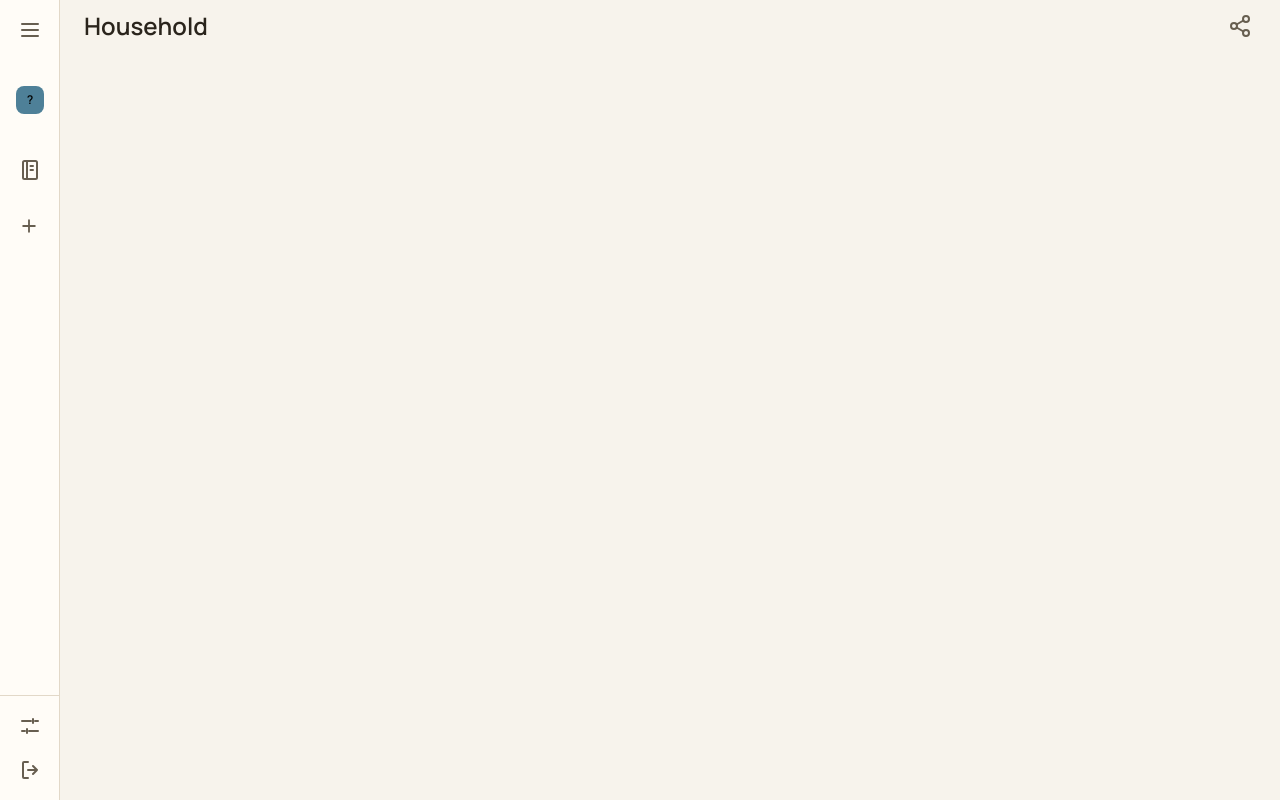
Scenario: KitchenDetailChrome › shows the load error instead of members when they could not be read
The width and height of the screenshot is (1280, 800).
Click the button named "Invite someone": [1240, 26] box [1224,10,1256,42]
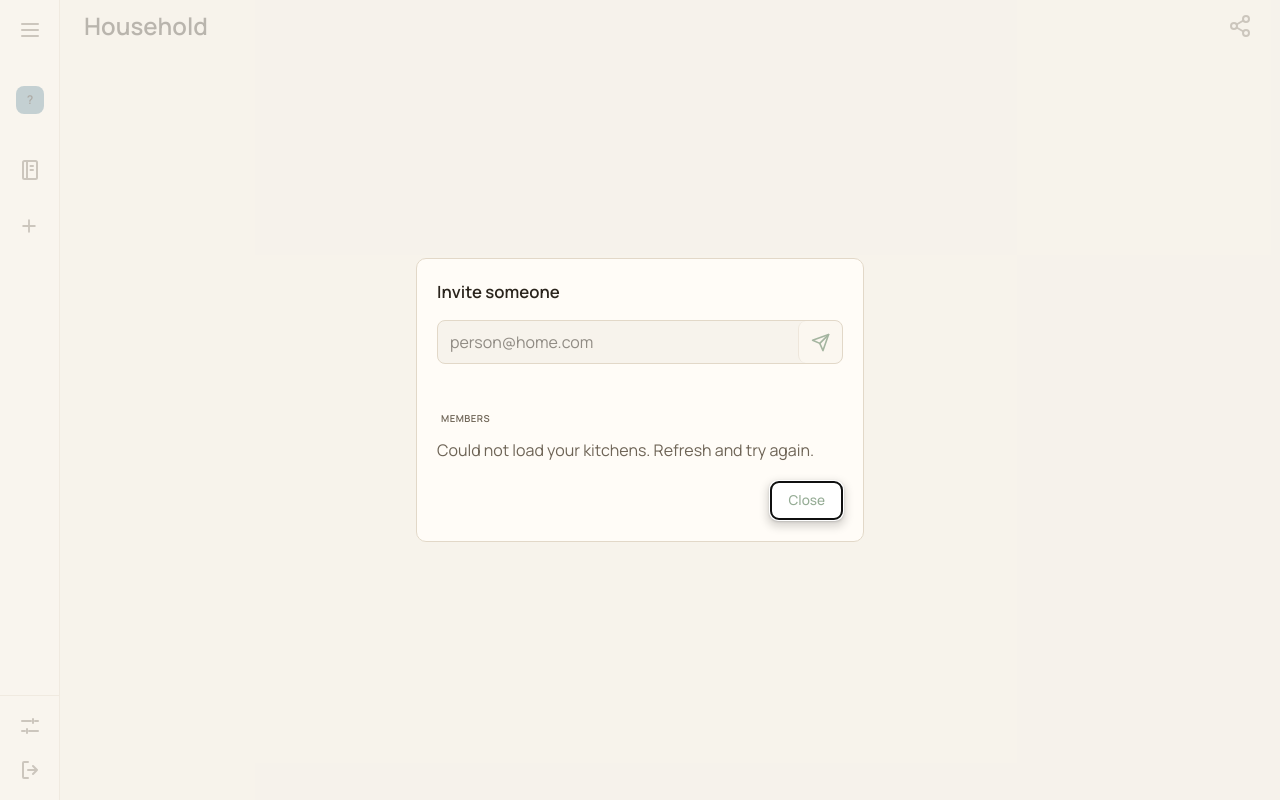
Now the message "Could not load your kitchens. Refresh and try again." is shown, box [437,438,843,462]
